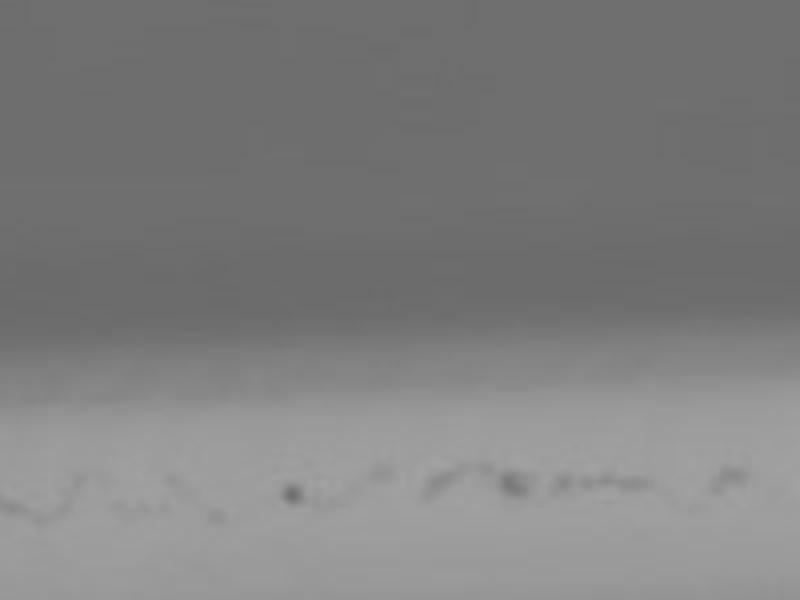defect: (51, 470, 82, 515), (4, 497, 44, 529), (546, 469, 577, 500), (503, 472, 536, 500), (615, 475, 654, 495), (370, 461, 399, 487), (431, 464, 463, 487), (718, 460, 744, 486), (161, 466, 186, 493), (280, 481, 305, 508), (99, 493, 123, 517), (156, 498, 182, 520), (418, 484, 440, 508), (130, 497, 152, 520), (206, 506, 230, 527), (707, 483, 730, 504), (597, 468, 619, 487), (579, 474, 601, 492), (474, 457, 496, 473)
